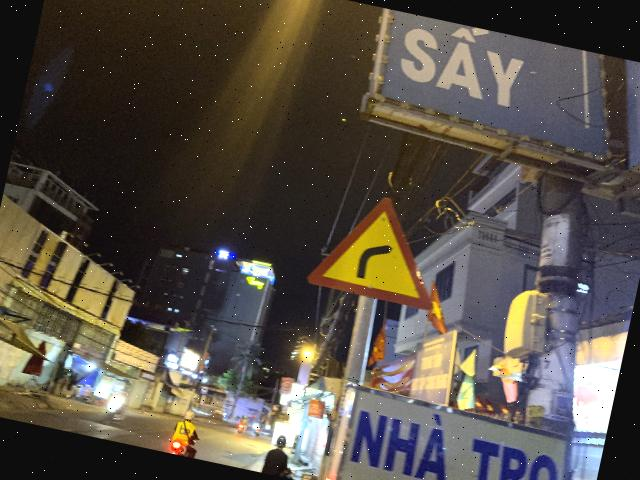cho-ngoat-nguy-hiem-ben-phai: (306, 183, 454, 310)
